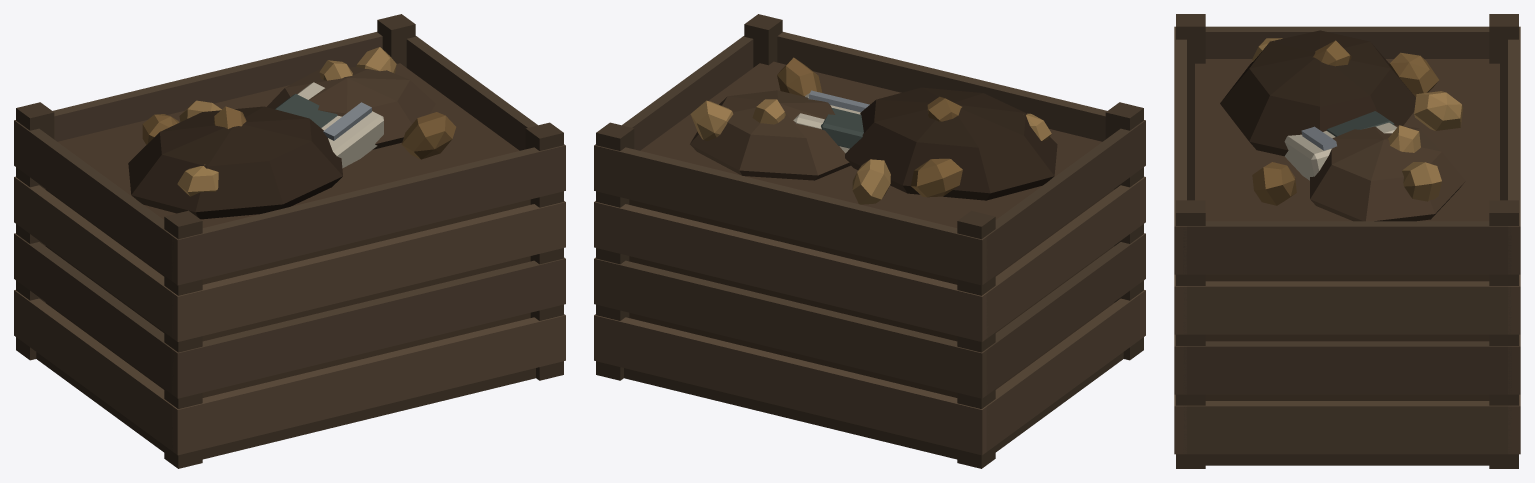
The model's file is prop_crate_shallow.glb.
3 renders of one model, left to right at view 1: azimuth 30°, elevation 25°; view 2: azimuth 150°, elevation 25°; view 3: azimuth 270°, elevation 25°, orthographic. The views are drawn at different scales.
Parts seen in each view (by area): view 1: prop_crate_shallow; view 2: prop_crate_shallow; view 3: prop_crate_shallow.
Boxes of the visible parts, x1,y1,x2,y2 form: prop_crate_shallow: [14, 14, 565, 468]; prop_crate_shallow: [594, 14, 1145, 468]; prop_crate_shallow: [1174, 14, 1520, 468].
Bounding box in the file's own units: 1.04 × 0.7099 × 0.76.
